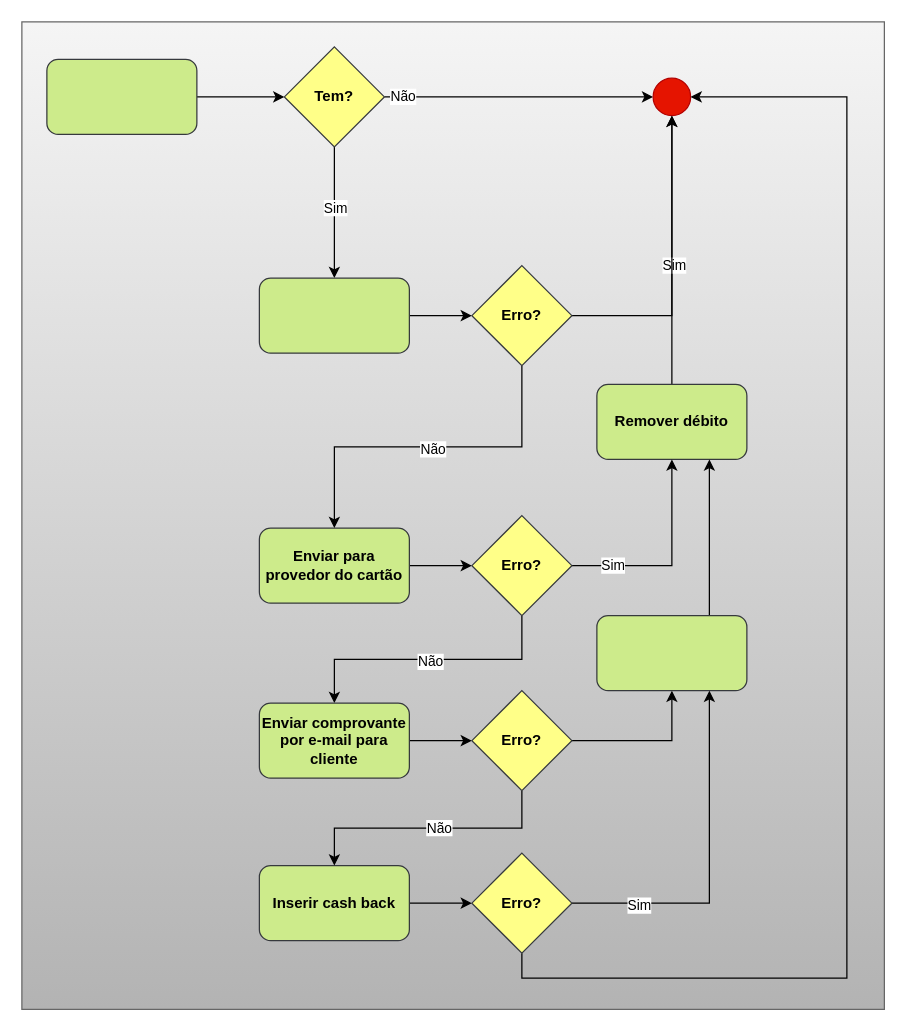
This 906x1031 diagram has some shape labels left out. The shapes that lost their labels are listed below. From the top down, each one's box as (x1, y1, x2, y2) in pixels, then its label:
(46, 58, 197, 134): Verificar saldo cliente
(652, 77, 691, 116): Fim
(258, 277, 409, 353): Inserir débito
(596, 614, 747, 691): Enviar estorno para provedor do cartão
